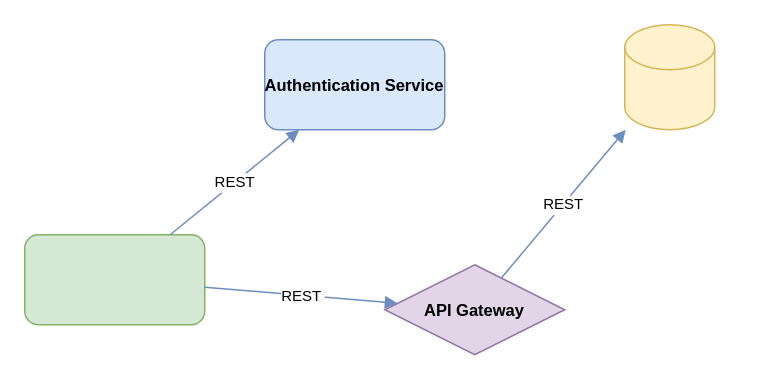
The diagram is 779 pixels wide and 380 high, and some of its shapes have lost their labels. Here are the shapes that lost their labels. From the top down, the box of each, then its label:
(623, 23, 715, 130): Cashflow Event Store
(23, 233, 205, 325): Customer Portal
